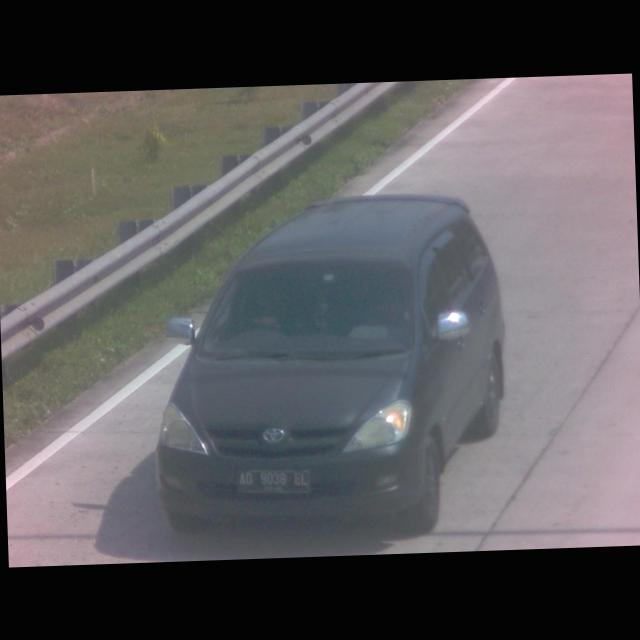plate: (237, 463, 315, 501)
